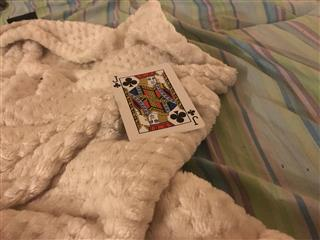JackOfClubs: (108, 62, 205, 140)
